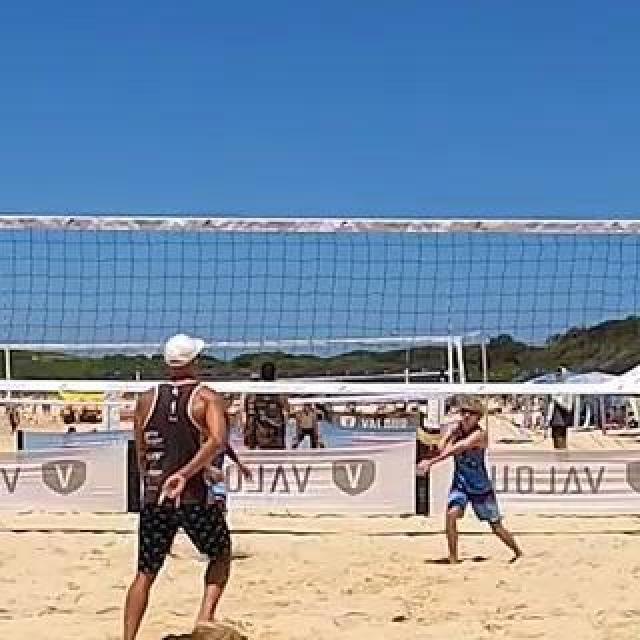volleyball: (416, 419, 442, 447)
